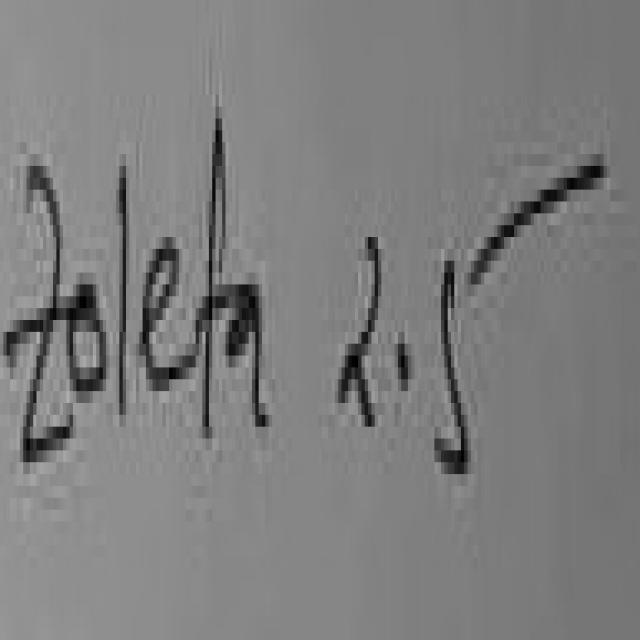2: (342, 237, 381, 427)
5: (438, 152, 611, 474)
Z: (3, 166, 73, 470)
a: (229, 284, 269, 421)
e: (143, 237, 196, 391)
l: (119, 166, 129, 409)
o: (66, 284, 106, 391)
t: (192, 119, 234, 433)
